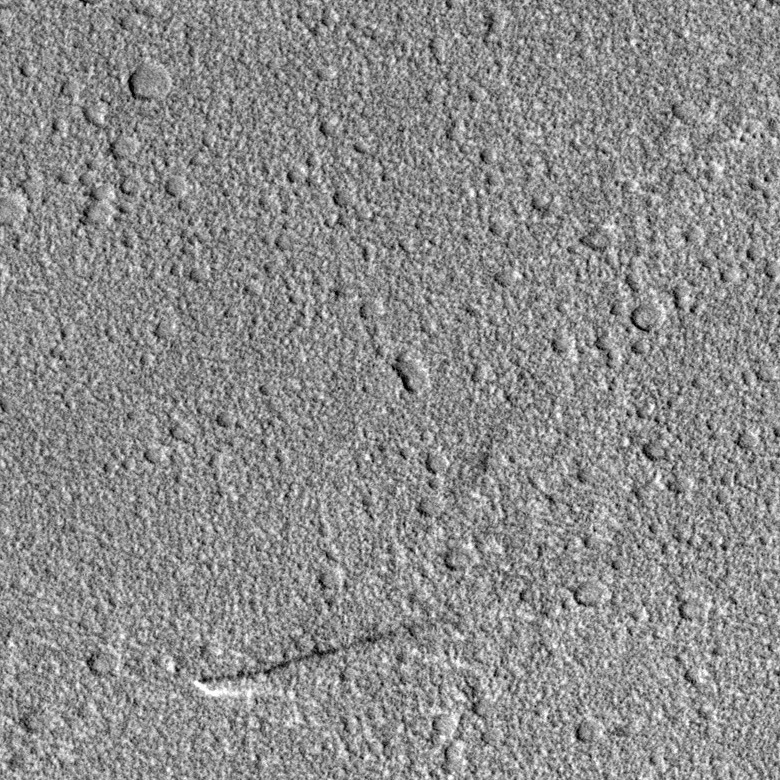dust_devil: (183, 614, 449, 711)
